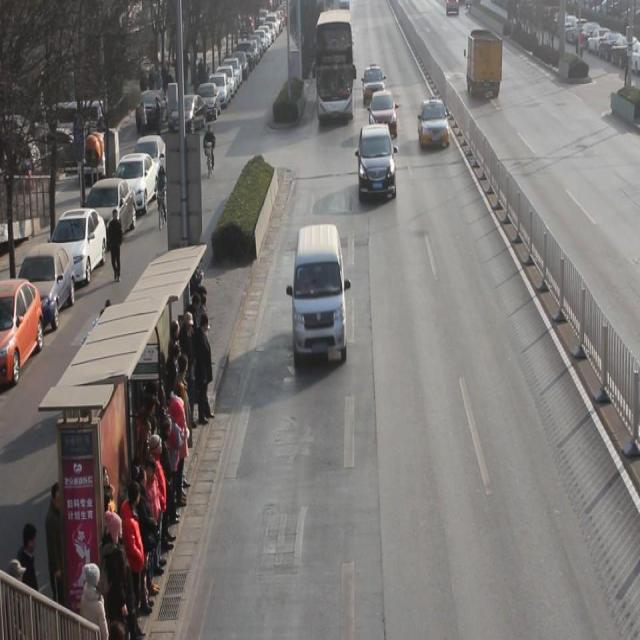bus: (468, 30, 503, 101)
car: (359, 123, 397, 203), (419, 99, 450, 151), (369, 88, 398, 138), (363, 64, 386, 105)
truck: (293, 225, 348, 366)
van: (315, 11, 354, 125)
